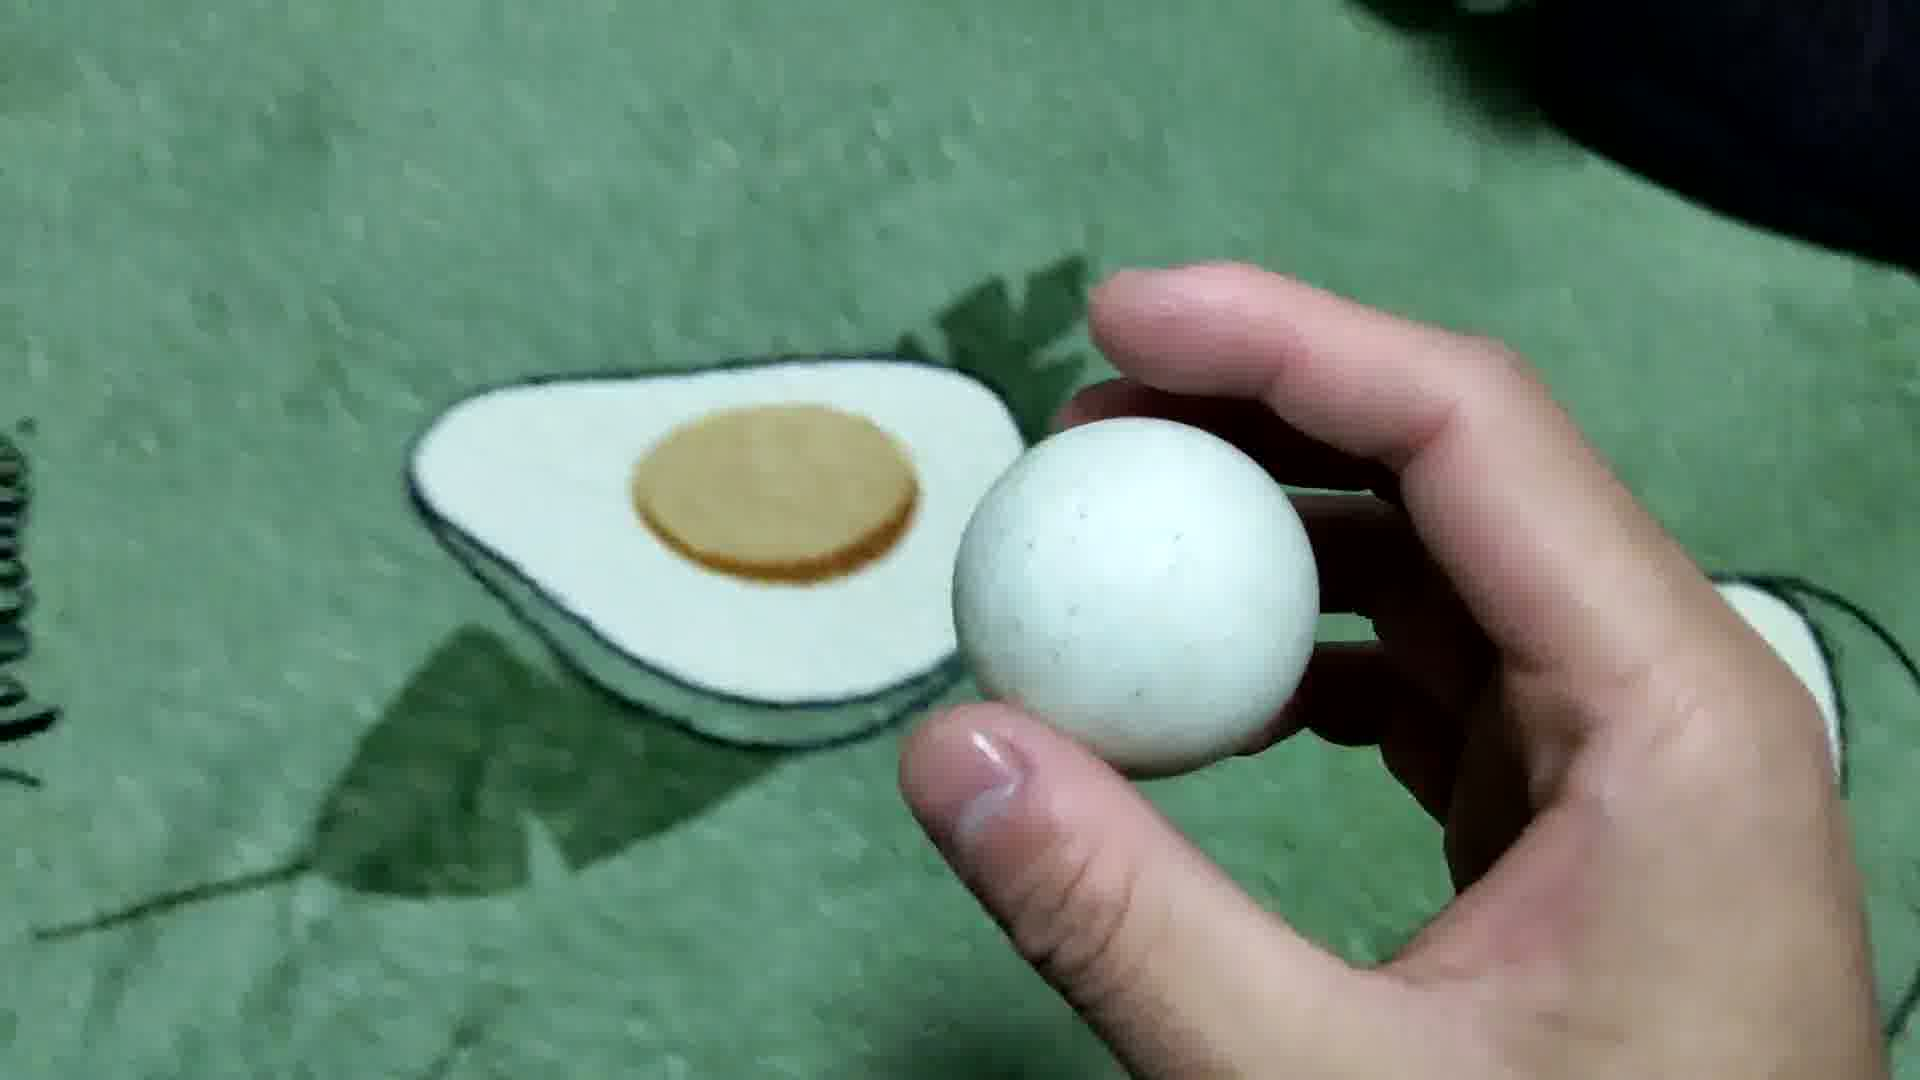Ball: (959, 419, 1325, 779)
